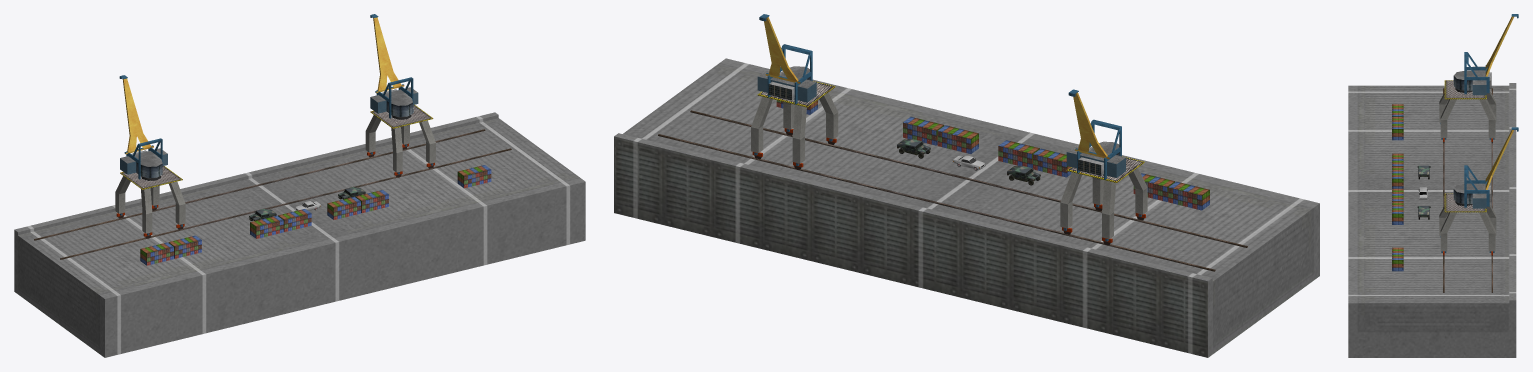
3 renders of one model, left to right at view 1: azimuth 30°, elevation 25°; view 2: azimuth 150°, elevation 25°; view 3: azimuth 270°, elevation 25°, orthographic. The views are drawn at different scales.
Visible parts, largest first — view 1: Box223, Box230, Box226, Box247, Box239, Box244, Box242, Box241, Box243, Box240, Box245; view 2: Box223, Box226, Box230, Box247, Box244, Box241, Box243, Box240, Box242, Box245; view 3: Box223, Box230, Box226, Box247, Box239, Box240, Box245, Box243, Box241, Box242, smdimport066, Box244 (+1 smaller).
Part boxes in pixels (x1,y1,x2,y2): Box223: (14,112,585,357); Box230: (115,75,185,238); Box226: (365,14,435,177); Box247: (34,129,511,259); Box239: (457,165,491,188); Box244: (140,242,173,265); Box242: (250,215,283,238); Box241: (327,196,360,219); Box243: (278,209,311,231); Box240: (355,190,388,213); Box245: (168,235,201,258); Box223: (614,58,1319,357); Box226: (751,14,838,169); Box230: (1060,89,1147,245); Box247: (658,110,1247,271); Box244: (1168,181,1209,210); Box241: (937,125,978,153); Box243: (998,140,1039,168); Box240: (903,117,944,145); Box242: (1033,148,1071,177); Box245: (1133,173,1175,201); Box223: (1348,83,1516,357); Box230: (1439,14,1518,143); Box226: (1439,127,1518,256); Box247: (1443,88,1492,292); Box239: (1392,247,1403,271); Box240: (1392,201,1403,224); Box245: (1392,117,1403,140); Box243: (1392,166,1403,188); Box241: (1392,188,1403,201); Box242: (1392,153,1403,166); smdimport066: (1417,165,1430,179); Box244: (1392,104,1403,116).
Bounding box in the file's own units: 127 × 47.4 × 41.93.
